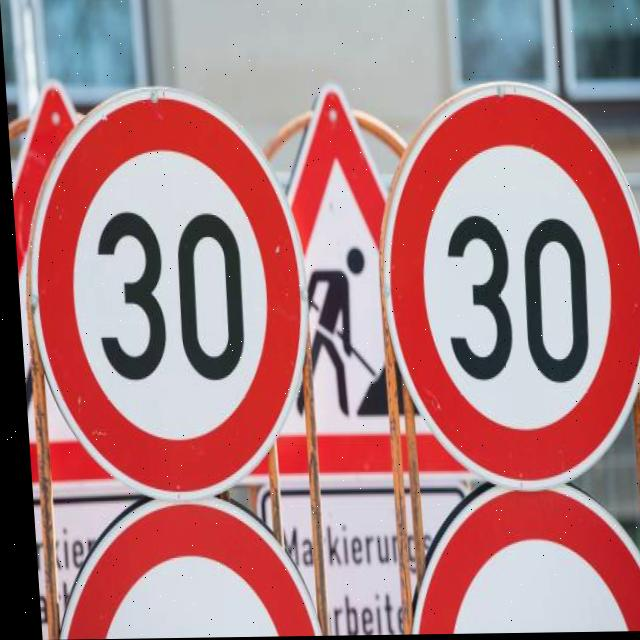Speed limit 30: (13, 84, 316, 503), (365, 80, 640, 494)
